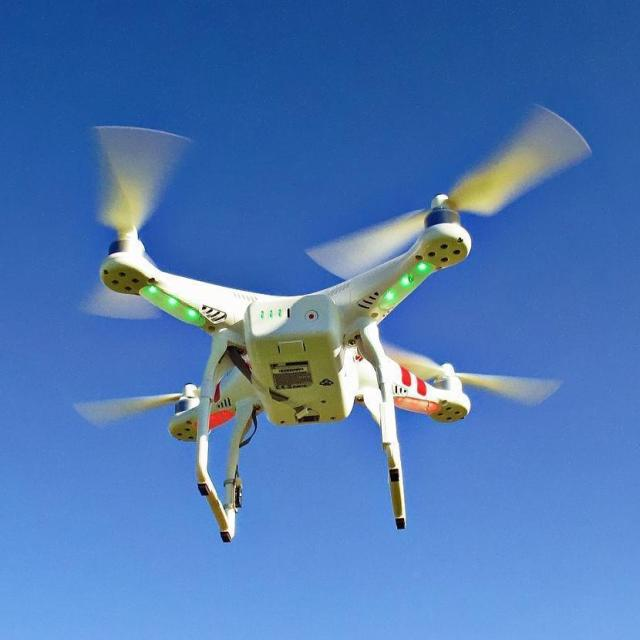drone: (93, 192, 478, 543)
